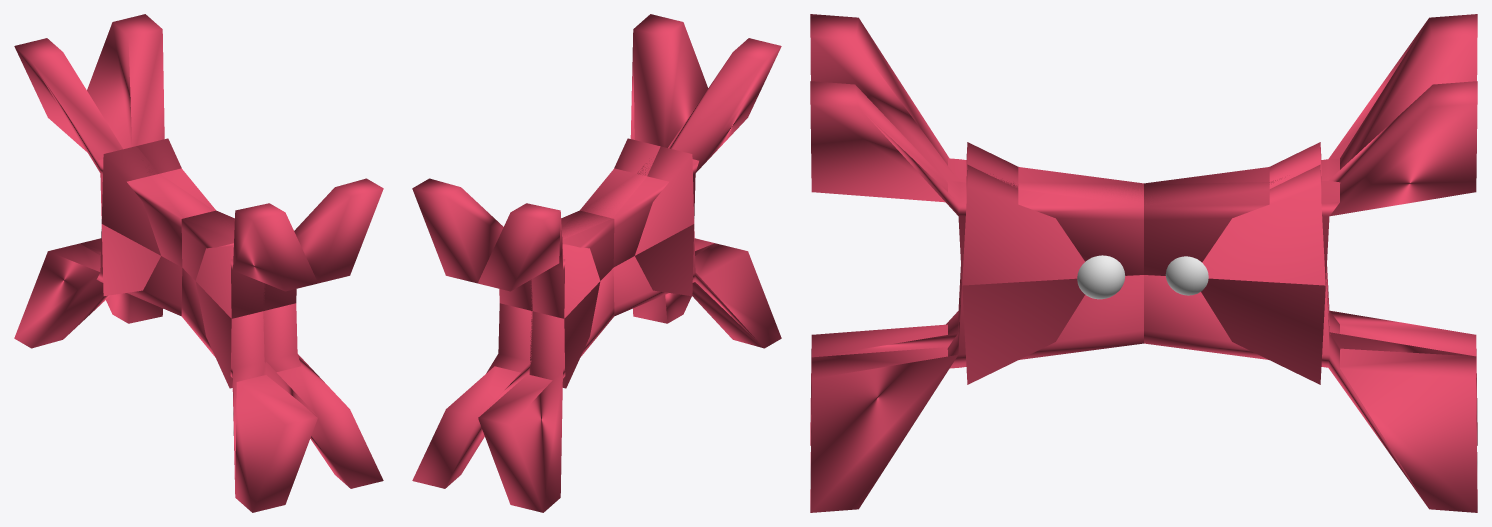
File: crab1blend.fbx
3 renders of one model, left to right at view 1: azimuth 30°, elevation 25°; view 2: azimuth 150°, elevation 25°; view 3: azimuth 270°, elevation 25°, orthographic. The views are drawn at different scales.
Visible parts, largest first — view 1: Cube; view 2: Cube; view 3: Cube, Sphere, Sphere.001.
Part boxes in pixels (x1,y1,x2,y2): Cube: (14,14,383,512); Cube: (412,14,781,512); Cube: (810,14,1477,512); Sphere: (1077,255,1125,299); Sphere.001: (1165,256,1208,295).
Bounding box in the file's own units: 796 × 1694 × 2502.
